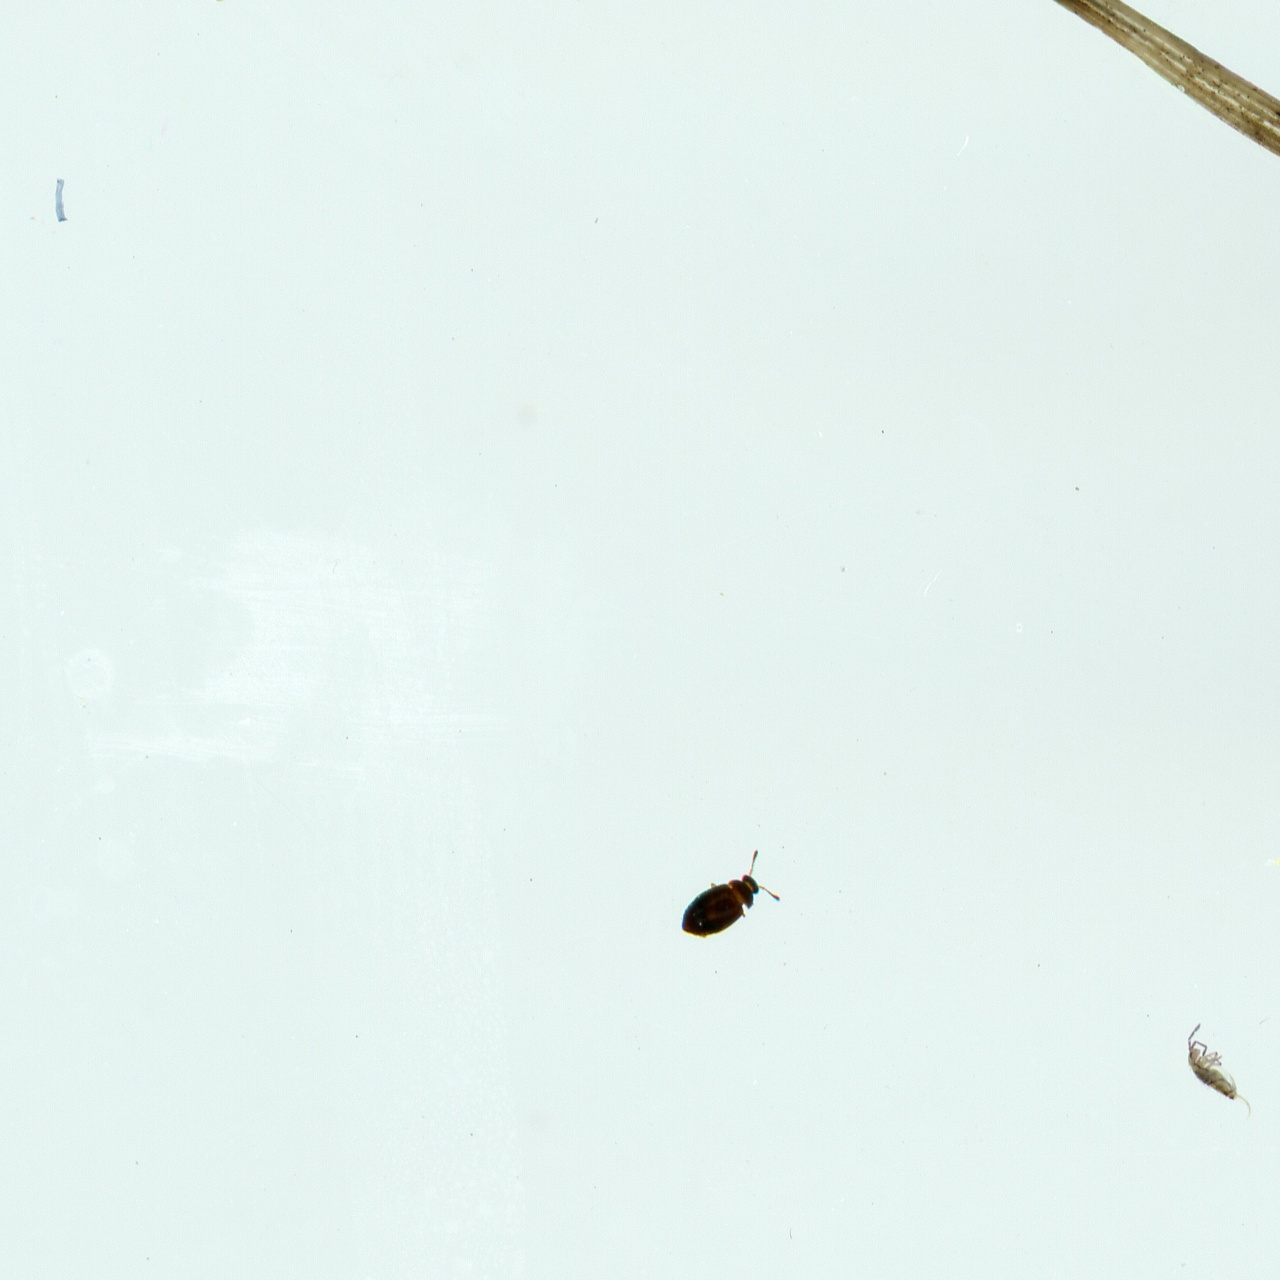arthropod: (658, 832, 801, 967), (1178, 1019, 1274, 1137)
